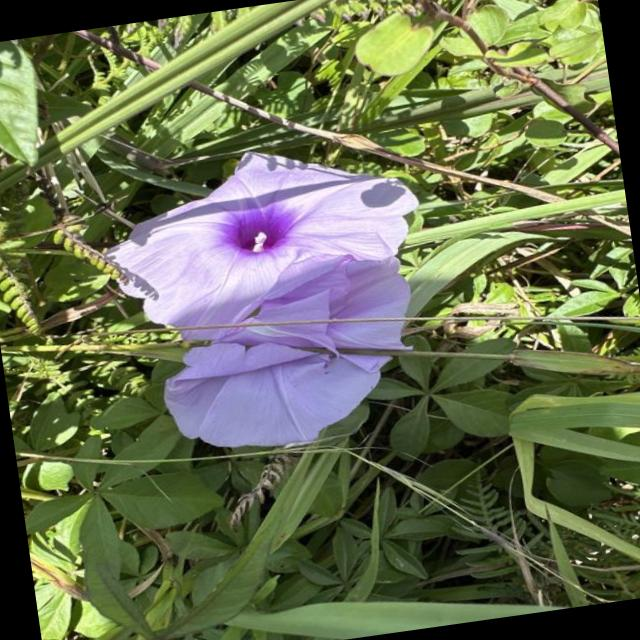ipomoea: (88, 126, 454, 470)
